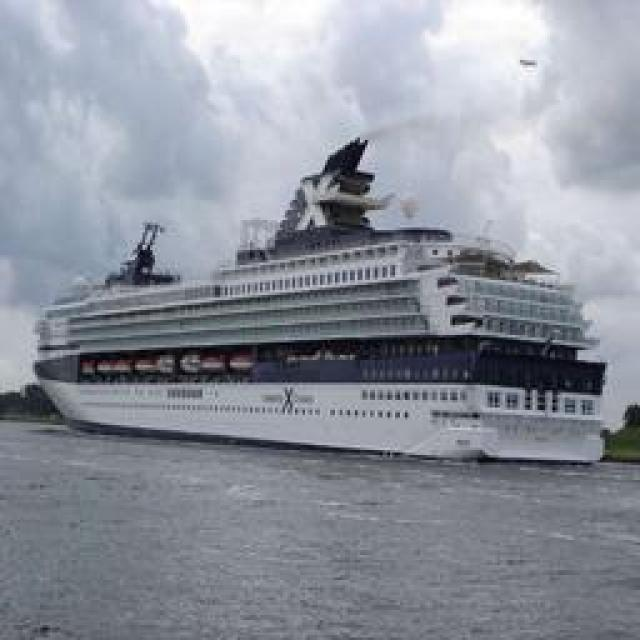CIV_Ship: (32, 150, 612, 458)
